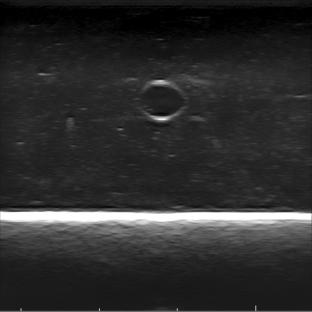vessel: (137, 78, 188, 121)
